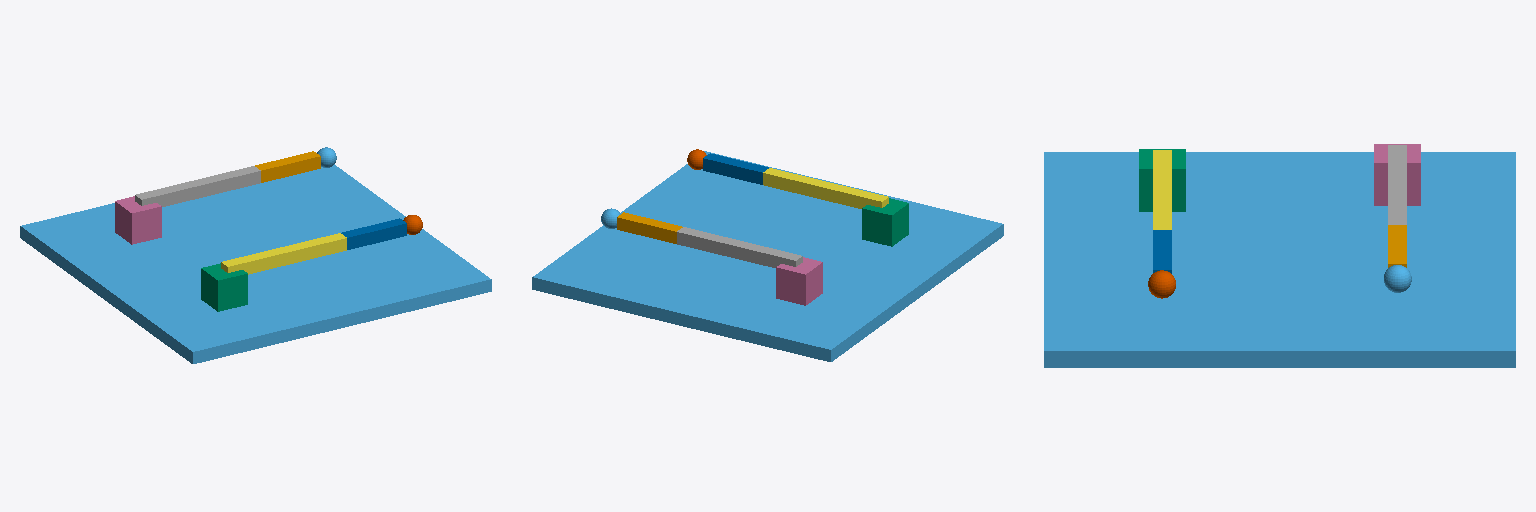
robot.urdf — synthetic_dual:
<?xml version="1.0"?>
<!-- Synthetic two-arm cell for the dual_cut_coordinator gtests. Each arm: a 0.1 m box base, two
     yaw joints (joint1, joint2) about world z at height 0.1, link1 = 0.4 x 0.04 x 0.04 box along
     +x, link2 = 0.2 x 0.04 x 0.04 box along +x, a 0.03 m sphere "tool" at the end. The left base is
     at the origin, the right base at y = 0.5, z = 0.013 (a z offset keeps the two bases
     out of exactly coplanar alignment, where FCL's GJK distance overestimates, see the test). Hand-computable geometry; see test_swept_volume.cpp. -->
<robot name="synthetic_dual">
  <link name="world"/>
  <link name="table">
    <visual><geometry><box size="1.0 1.0 0.04"/></geometry></visual>
    <collision><geometry><box size="1.0 1.0 0.04"/></geometry></collision>
  </link>
  <joint name="world_to_table" type="fixed">
    <parent link="world"/><child link="table"/><origin xyz="0.25 0.25 -0.021"/>
  </joint>

  <!-- arm arm_left_ -->
  <link name="arm_left_base_link">
    <visual><geometry><box size="0.1 0.1 0.1"/></geometry><origin xyz="0 0 0.05"/></visual>
    <collision><geometry><box size="0.1 0.1 0.1"/></geometry><origin xyz="0 0 0.05"/></collision>
  </link>
  <joint name="world_to_arm_left_base" type="fixed">
    <parent link="world"/><child link="arm_left_base_link"/><origin xyz="0 0.0 0"/>
  </joint>
  <link name="arm_left_link1">
    <visual><geometry><box size="0.4 0.04 0.04"/></geometry><origin xyz="0.2 0 0"/></visual>
    <collision><geometry><box size="0.4 0.04 0.04"/></geometry><origin xyz="0.2 0 0"/></collision>
  </link>
  <joint name="arm_left_joint1" type="revolute">
    <parent link="arm_left_base_link"/><child link="arm_left_link1"/>
    <origin xyz="0 0 0.1"/><axis xyz="0 0 1"/>
    <limit lower="-3.2" upper="3.2" effort="10" velocity="1"/>
  </joint>
  <link name="arm_left_link2">
    <visual><geometry><box size="0.2 0.04 0.04"/></geometry><origin xyz="0.1 0 0"/></visual>
    <collision><geometry><box size="0.2 0.04 0.04"/></geometry><origin xyz="0.1 0 0"/></collision>
  </link>
  <joint name="arm_left_joint2" type="revolute">
    <parent link="arm_left_link1"/><child link="arm_left_link2"/>
    <origin xyz="0.4 0 0"/><axis xyz="0 0 1"/>
    <limit lower="-3.2" upper="3.2" effort="10" velocity="1"/>
  </joint>
  <link name="arm_left_tool">
    <visual><geometry><sphere radius="0.03"/></geometry><origin xyz="0.03 0 0"/></visual>
    <collision><geometry><sphere radius="0.03"/></geometry><origin xyz="0.03 0 0"/></collision>
  </link>
  <joint name="arm_left_tool_joint" type="fixed">
    <parent link="arm_left_link2"/><child link="arm_left_tool"/><origin xyz="0.2 0 0"/>
  </joint>

  <!-- arm arm_right_ -->
  <link name="arm_right_base_link">
    <visual><geometry><box size="0.1 0.1 0.1"/></geometry><origin xyz="0 0 0.05"/></visual>
    <collision><geometry><box size="0.1 0.1 0.1"/></geometry><origin xyz="0 0 0.05"/></collision>
  </link>
  <joint name="world_to_arm_right_base" type="fixed">
    <parent link="world"/><child link="arm_right_base_link"/><origin xyz="0 0.5 0.013"/>
  </joint>
  <link name="arm_right_link1">
    <visual><geometry><box size="0.4 0.04 0.04"/></geometry><origin xyz="0.2 0 0"/></visual>
    <collision><geometry><box size="0.4 0.04 0.04"/></geometry><origin xyz="0.2 0 0"/></collision>
  </link>
  <joint name="arm_right_joint1" type="revolute">
    <parent link="arm_right_base_link"/><child link="arm_right_link1"/>
    <origin xyz="0 0 0.1"/><axis xyz="0 0 1"/>
    <limit lower="-3.2" upper="3.2" effort="10" velocity="1"/>
  </joint>
  <link name="arm_right_link2">
    <visual><geometry><box size="0.2 0.04 0.04"/></geometry><origin xyz="0.1 0 0"/></visual>
    <collision><geometry><box size="0.2 0.04 0.04"/></geometry><origin xyz="0.1 0 0"/></collision>
  </link>
  <joint name="arm_right_joint2" type="revolute">
    <parent link="arm_right_link1"/><child link="arm_right_link2"/>
    <origin xyz="0.4 0 0"/><axis xyz="0 0 1"/>
    <limit lower="-3.2" upper="3.2" effort="10" velocity="1"/>
  </joint>
  <link name="arm_right_tool">
    <visual><geometry><sphere radius="0.03"/></geometry><origin xyz="0.03 0 0"/></visual>
    <collision><geometry><sphere radius="0.03"/></geometry><origin xyz="0.03 0 0"/></collision>
  </link>
  <joint name="arm_right_tool_joint" type="fixed">
    <parent link="arm_right_link2"/><child link="arm_right_tool"/><origin xyz="0.2 0 0"/>
  </joint>
</robot>

--- Render facts (derived) ---
3 views of the same robot in one strip: view 1: azimuth 30°, elevation 25°; view 2: azimuth 150°, elevation 25°; view 3: azimuth 270°, elevation 25° (orthographic).
Robot: synthetic_dual — 10 links, 9 joints (4 revolute, 5 fixed); root link world; default pose: all joints at 0.
Visible links, largest first — view 1: table, arm_right_link1, arm_left_link1, arm_left_base_link, arm_right_base_link, arm_right_link2, arm_left_link2; view 2: table, arm_right_link1, arm_left_link1, arm_left_base_link, arm_right_base_link, arm_left_link2, arm_right_link2; view 3: table, arm_left_base_link, arm_right_base_link, arm_left_link1, arm_right_link1, arm_left_link2, arm_right_link2, arm_left_tool, arm_right_tool.
Boxes of the visible links, left/top/right/bottom form: table: left=20, top=164, right=491, bottom=363; arm_right_link1: left=135, top=166, right=260, bottom=206; arm_left_link1: left=221, top=233, right=346, bottom=274; arm_left_base_link: left=201, top=263, right=247, bottom=311; arm_right_base_link: left=115, top=196, right=161, bottom=244; arm_right_link2: left=255, top=151, right=320, bottom=182; arm_left_link2: left=341, top=218, right=406, bottom=249; table: left=532, top=151, right=1003, bottom=361; arm_right_link1: left=677, top=227, right=802, bottom=267; arm_left_link1: left=763, top=168, right=888, bottom=208; arm_left_base_link: left=862, top=198, right=908, bottom=246; arm_right_base_link: left=776, top=257, right=822, bottom=305; arm_left_link2: left=703, top=153, right=768, bottom=184; arm_right_link2: left=617, top=212, right=682, bottom=243; table: left=1044, top=152, right=1515, bottom=367; arm_left_base_link: left=1139, top=149, right=1185, bottom=211; arm_right_base_link: left=1374, top=144, right=1420, bottom=205; arm_left_link1: left=1153, top=150, right=1171, bottom=229; arm_right_link1: left=1388, top=145, right=1406, bottom=224; arm_left_link2: left=1153, top=230, right=1171, bottom=273; arm_right_link2: left=1388, top=225, right=1406, bottom=267; arm_left_tool: left=1148, top=270, right=1175, bottom=298; arm_right_tool: left=1384, top=265, right=1411, bottom=292.
Size in the robot's own frame: 1 by 1 by 0.184 metres.
Geometry: primitives only (box / cylinder / sphere), no mesh files.
